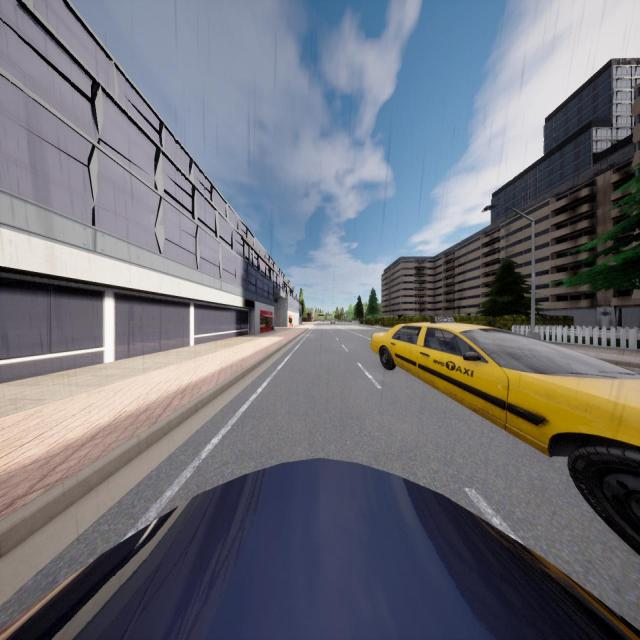Vehicle: (0, 458, 640, 640), (370, 322, 640, 554), (330, 318, 336, 325)
